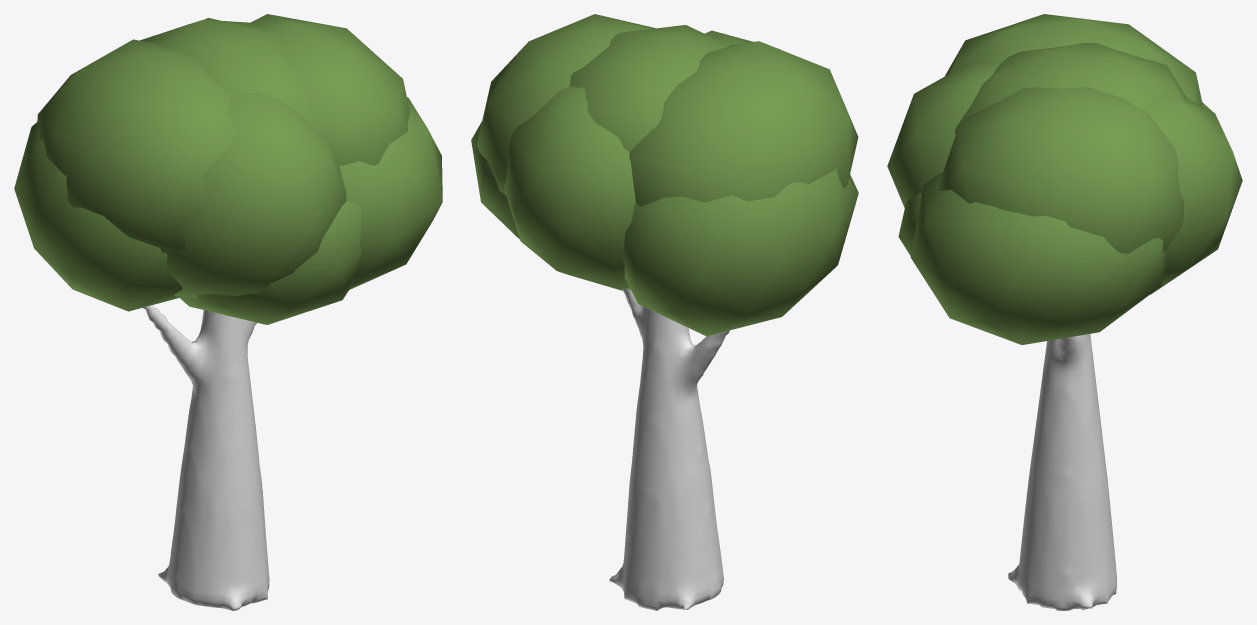
Rendered from NaturalTree_08_Compact.fbx.
The picture shows the model from 3 angles, left to right: view 1: azimuth 30°, elevation 25°; view 2: azimuth 150°, elevation 25°; view 3: azimuth 270°, elevation 25°; orthographic projection. The views are drawn at different scales.
Visible parts, largest first — view 1: Foliage_01.007, Trunk.007, Foliage_03.007, Foliage_05.007, Foliage_02.007, Foliage_06.007, Foliage_00.007, Foliage_07.006; view 2: Foliage_01.007, Foliage_05.007, Trunk.007, Foliage_04.007, Foliage_00.007, Foliage_02.007, Foliage_06.007; view 3: Foliage_02.007, Foliage_06.007, Trunk.007, Foliage_04.007, Foliage_00.007, Foliage_01.007, Foliage_03.007, Foliage_07.006.
Boxes of the visible parts, left/top/right/bottom form: Foliage_01.007: left=37, top=39, right=235, bottom=253; Trunk.007: left=142, top=305, right=269, bottom=610; Foliage_03.007: left=167, top=92, right=346, bottom=298; Foliage_05.007: left=14, top=122, right=182, bottom=311; Foliage_02.007: left=250, top=14, right=409, bottom=166; Foliage_06.007: left=339, top=97, right=442, bottom=289; Foliage_00.007: left=140, top=19, right=323, bottom=133; Foliage_07.006: left=179, top=200, right=362, bottom=324; Foliage_01.007: left=629, top=41, right=858, bottom=206; Foliage_05.007: left=622, top=166, right=858, bottom=336; Trunk.007: left=609, top=289, right=729, bottom=610; Foliage_04.007: left=504, top=85, right=635, bottom=290; Foliage_00.007: left=570, top=25, right=729, bottom=151; Foliage_02.007: left=476, top=14, right=655, bottom=195; Foliage_06.007: left=471, top=121, right=519, bottom=239; Foliage_02.007: left=937, top=86, right=1183, bottom=253; Foliage_06.007: left=910, top=172, right=1165, bottom=344; Trunk.007: left=1008, top=334, right=1116, bottom=610; Foliage_04.007: left=1145, top=96, right=1242, bottom=294; Foliage_00.007: left=955, top=43, right=1187, bottom=134; Foliage_01.007: left=944, top=14, right=1203, bottom=106; Foliage_03.007: left=887, top=63, right=999, bottom=207; Foliage_07.006: left=898, top=193, right=921, bottom=255.
Bounding box in the file's own units: 1.81 × 2.59 × 1.54.
